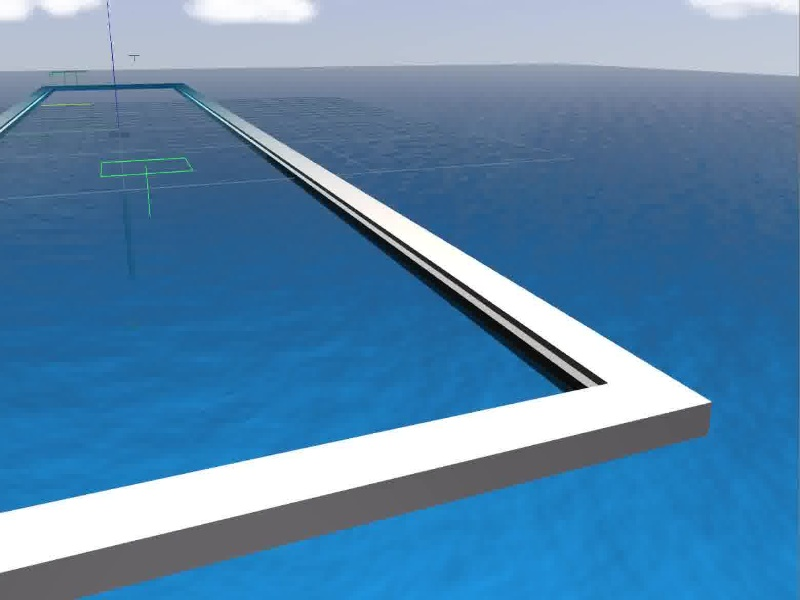gate: (37, 103, 98, 145)
